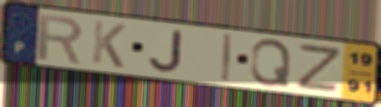I: (220, 31, 235, 84)
J: (147, 28, 184, 74)
K: (90, 18, 128, 70)
Q: (248, 37, 294, 89)
R: (36, 12, 86, 66)
Z: (293, 43, 345, 94)
